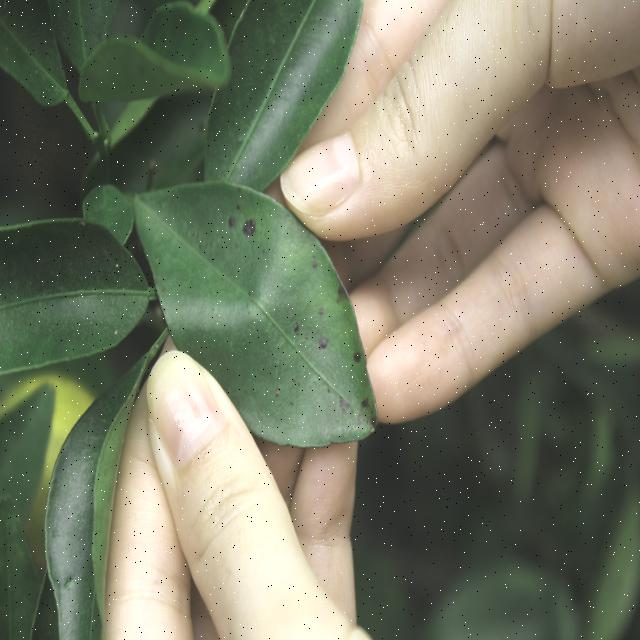blackspot: (205, 196, 372, 447)
